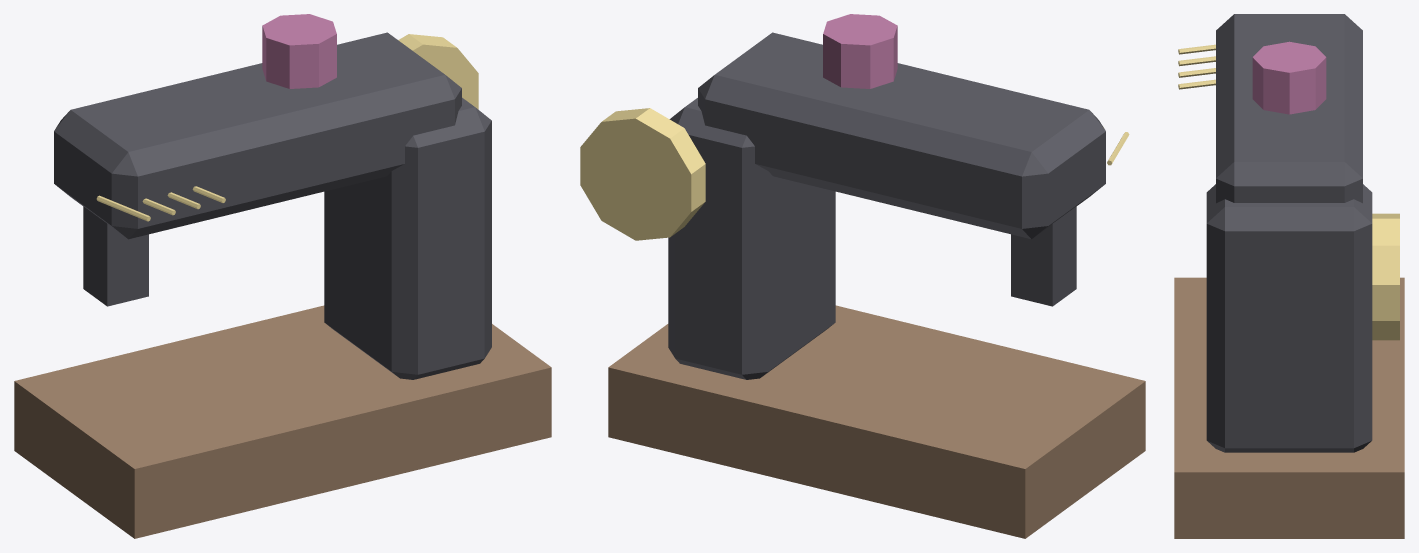
The model's file is SewingMachine.fbx.
3 views of the same model, side by side, from view 1: azimuth 30°, elevation 25°; view 2: azimuth 150°, elevation 25°; view 3: azimuth 270°, elevation 25° (orthographic). The views are drawn at different scales.
Visible parts, largest first — view 1: Prop_SewingMachine; view 2: Prop_SewingMachine; view 3: Prop_SewingMachine.
Part boxes in pixels (bbox=[...]): Prop_SewingMachine: bbox=[14, 14, 551, 538]; Prop_SewingMachine: bbox=[580, 14, 1145, 538]; Prop_SewingMachine: bbox=[1174, 14, 1404, 538].
Size of the model in its own units: 0.5395 by 0.47 by 0.25.
